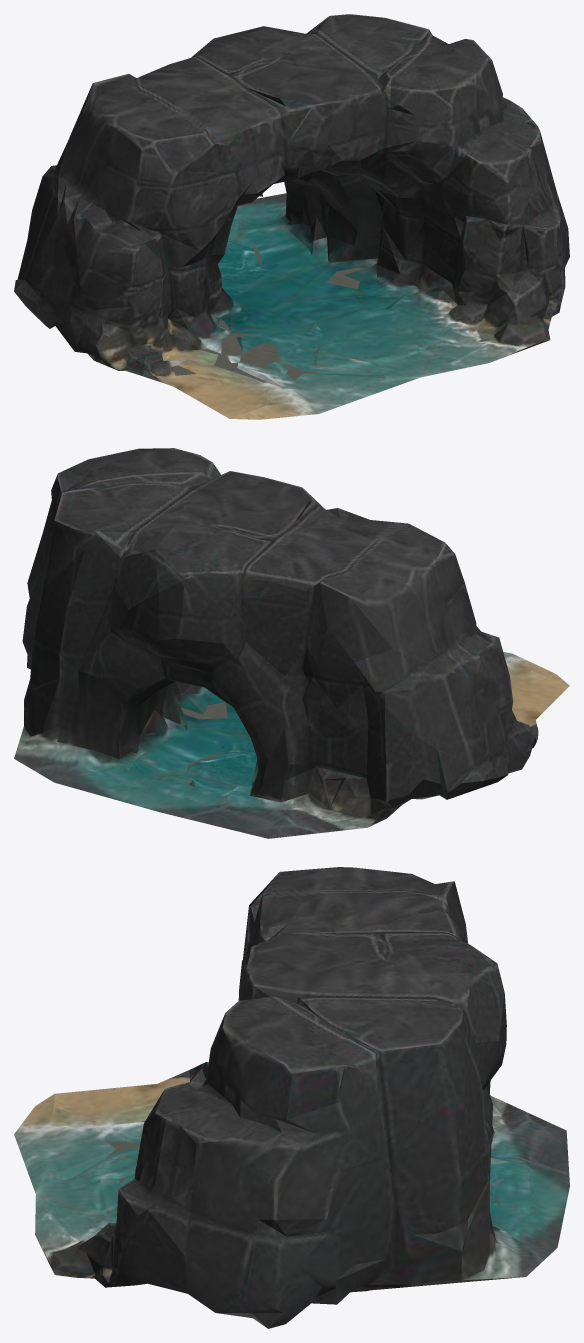
File: basalt-cave.lod.glb
The picture shows the model from 3 angles, top to bottom: view 1: azimuth 30°, elevation 25°; view 2: azimuth 150°, elevation 25°; view 3: azimuth 270°, elevation 25°; orthographic projection. The views are drawn at different scales.
Visible parts, largest first — view 1: output_unwrapped; view 2: output_unwrapped; view 3: output_unwrapped.
Boxes of the visible parts, left/top/right/bottom form: output_unwrapped: left=14, top=14, right=569, bottom=419; output_unwrapped: left=14, top=448, right=569, bottom=838; output_unwrapped: left=14, top=867, right=569, bottom=1328.
Bounding box in the file's own units: 1.85 × 0.7702 × 1.58.
1 material, 1 textured.
